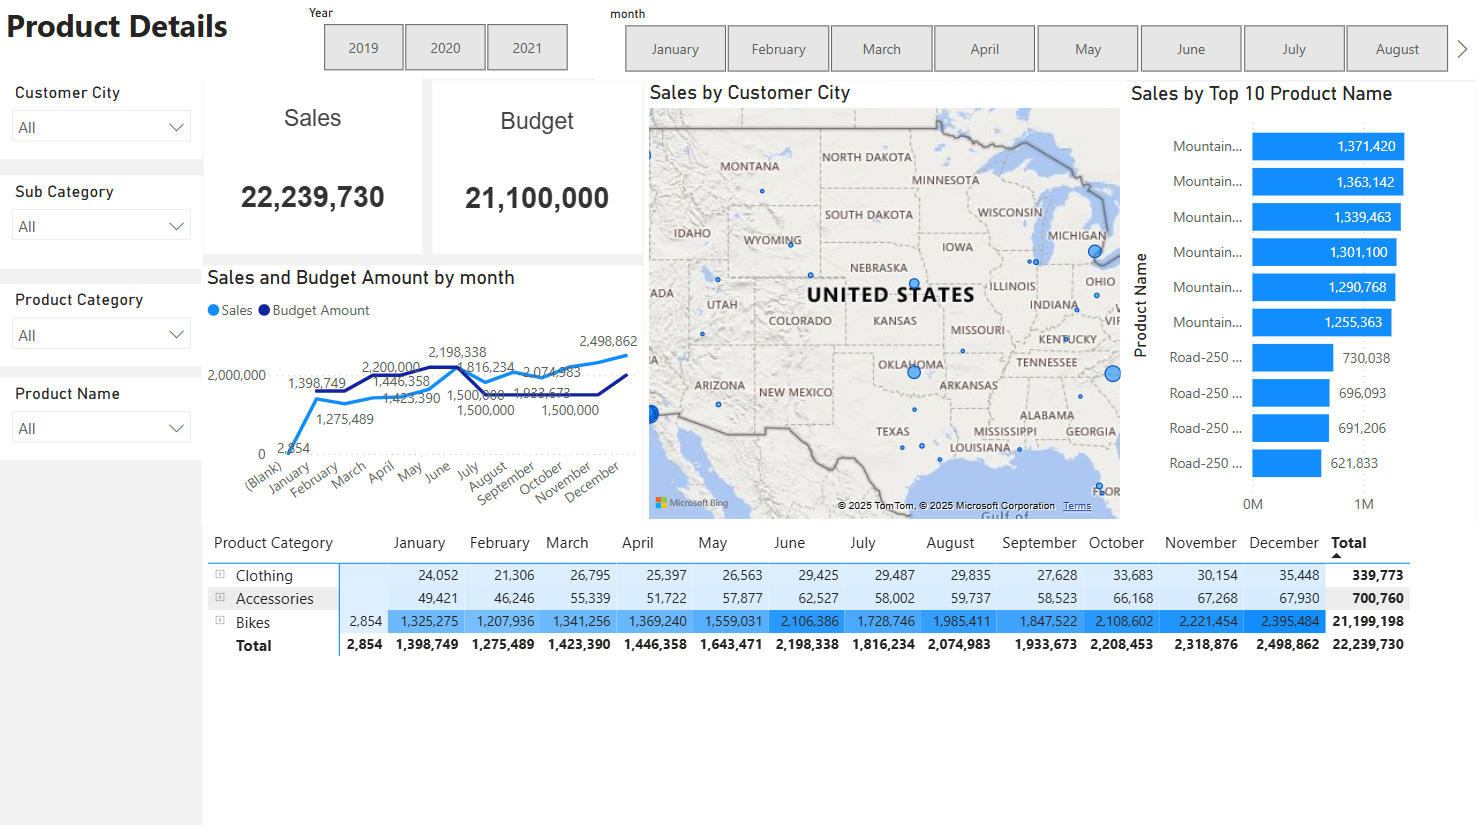

What the dashboard file says about the page in this screenshot:
{"tool":"powerbi","page":{"name":"Product Details","canvas":[1280,720],"ordinal":2},"visuals":[{"type":"textbox","box":[0,0,1280.3,68.6],"z":0},{"type":"slicer","fields":{"Values":["Dim Customer.Customer City"]},"box":[0,68.6,175.6,71.4],"z":1000},{"type":"slicer","fields":{"Values":["Dim_Product.Sub Category"]},"box":[0,153.7,175.6,81],"z":2000},{"type":"slicer","fields":{"Values":["Dim_Product.Product Category"]},"box":[0,248.4,175.6,71.4],"z":3000},{"type":"slicer","fields":{"Values":["Dim_Product.Product Name"]},"box":[0,329.3,175.6,71.4],"z":4000},{"type":"slicer","fields":{"Values":["Dim_calendar.Year"]},"box":[255,1.2,261.2,68.8],"z":5000},{"type":"slicer","fields":{"Values":["Dim_calendar.month"]},"box":[516.2,2.5,763.8,68.8],"z":6000},{"type":"lineChart","fields":{"Category":["Dim_calendar.month"],"Y":["Key mesures.Sales","Key mesures.Budget Amount"]},"box":[174.4,231.8,383.6,225.6],"z":7000},{"type":"barChart","title":"Sales by Top 10 Product Name","fields":{"Category":["Dim_Product.Product Name"],"Y":["Key mesures.Sales"]},"box":[976.2,72.5,303.8,385],"z":8000},{"type":"map","fields":{"Category":["Dim Customer.Customer City"],"Size":["Key mesures.Sales"]},"box":[557.9,71.8,418.5,385.6],"z":9000},{"type":"BBED0A4D4D8D44CE93CF2DAFADEE466C","fields":{"actual":["Key mesures.Sales"]},"box":[176.4,67.8,190,153.8],"z":10000},{"type":"BBED0A4D4D8D44CE93CF2DAFADEE466C","fields":{"actual":["Key mesures.Budget Amount"]},"box":[375.4,71.2,182,150.4],"z":11000},{"type":"pivotTable","fields":{"Rows":["Dim_Product.Product Category","Dim_Product.Product Name"],"Values":["Key mesures.Sales"],"Columns":["Dim_calendar.month"]},"box":[175.6,457,1104.7,262.8],"z":12000}]}

Visuals, with their boxes in screenshot pixels (x1, y1, x2, y2), scaled from the page's 1280x720 canvas onto the 1476x825 screenshot:
textbox: bbox(0, 0, 1475, 79)
slicer - Dim Customer.Customer City: bbox(0, 79, 202, 160)
slicer - Dim_Product.Sub Category: bbox(0, 176, 202, 269)
slicer - Dim_Product.Product Category: bbox(0, 285, 202, 366)
slicer - Dim_Product.Product Name: bbox(0, 377, 202, 459)
slicer - Dim_calendar.Year: bbox(294, 1, 595, 80)
slicer - Dim_calendar.month: bbox(595, 3, 1475, 82)
lineChart - Dim_calendar.month x Key mesures.Sales: bbox(201, 266, 643, 524)
"Sales by Top 10 Product Name" barChart: bbox(1126, 83, 1475, 524)
map - Dim Customer.Customer City x Key mesures.Sales: bbox(643, 82, 1126, 524)
BBED0A4D4D8D44CE93CF2DAFADEE466C - Key mesures.Sales: bbox(203, 78, 423, 254)
BBED0A4D4D8D44CE93CF2DAFADEE466C - Key mesures.Budget Amount: bbox(433, 82, 643, 254)
pivotTable - Dim_Product.Product Category x Dim_Product.Product Name: bbox(202, 524, 1475, 824)
